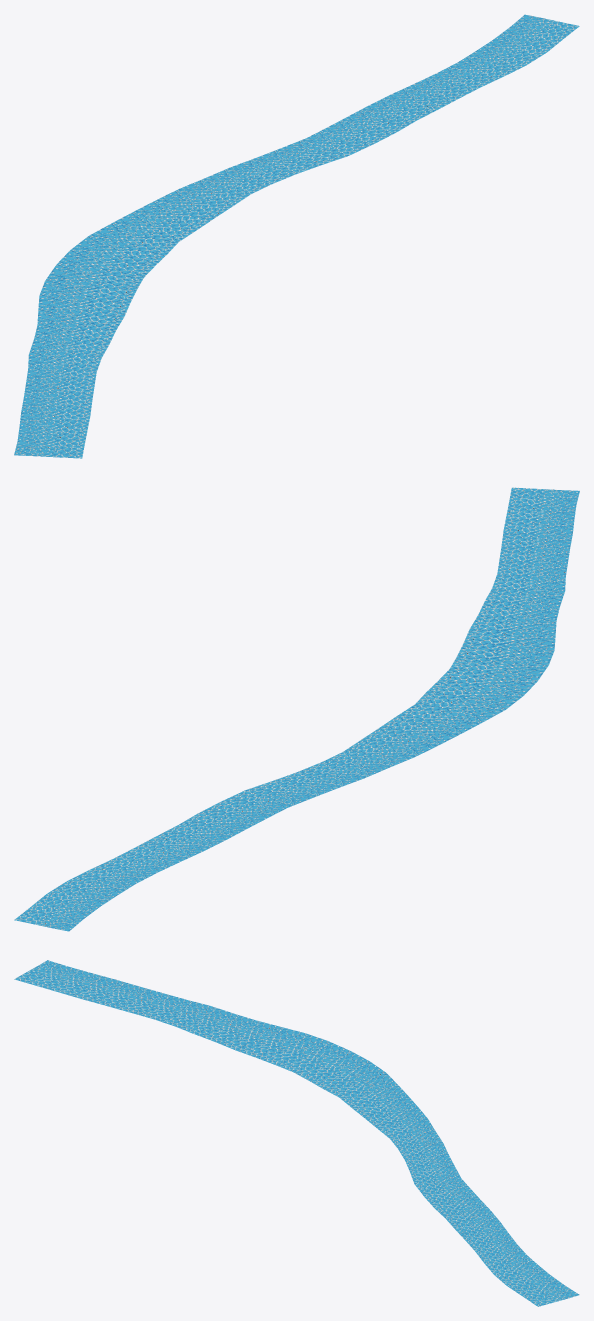
3 views of the same model, one above another, from view 1: azimuth 30°, elevation 25°; view 2: azimuth 210°, elevation 25°; view 3: azimuth 270°, elevation 25° (orthographic). The views are drawn at different scales.
Visible parts, largest first — view 1: River_Mesh.008, River_Mesh_Upper.008; view 2: River_Mesh.008, River_Mesh_Upper.008; view 3: River_Mesh.008, River_Mesh_Upper.008.
Boxes of the visible parts, left/top/right/bottom form: River_Mesh.008: left=14, top=14, right=579, bottom=458; River_Mesh_Upper.008: left=14, top=15, right=578, bottom=458; River_Mesh.008: left=14, top=487, right=579, bottom=931; River_Mesh_Upper.008: left=15, top=487, right=579, bottom=929; River_Mesh.008: left=14, top=960, right=579, bottom=1306; River_Mesh_Upper.008: left=15, top=960, right=578, bottom=1306.
Size of the model in its own units: 259 by 0.081 by 179.
2 materials, 2 textured.
